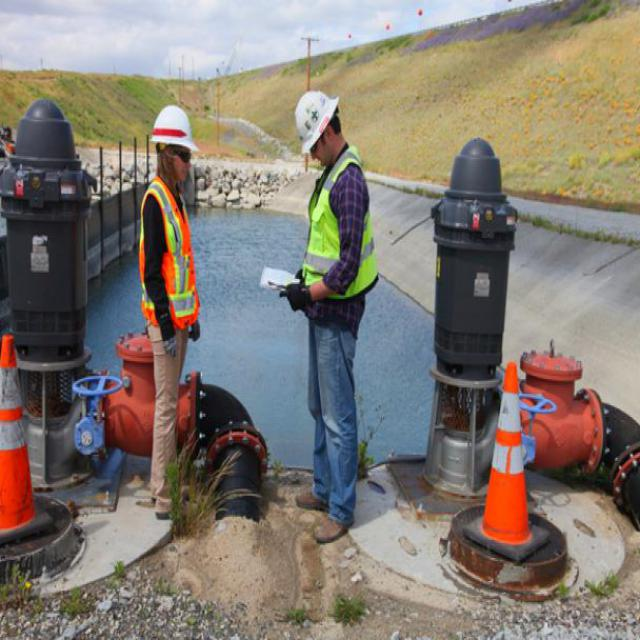gloves: (157, 298, 185, 356), (289, 270, 318, 317)
helmet: (137, 86, 215, 187), (286, 77, 353, 159)
vest: (300, 154, 388, 307), (133, 194, 201, 323)
